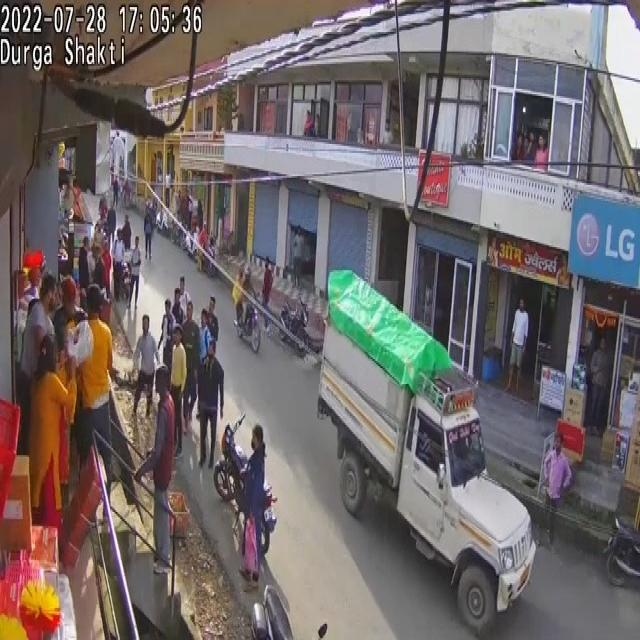fight: (74, 286, 130, 515), (28, 337, 76, 530), (18, 269, 54, 452), (54, 279, 87, 477)
non-fight: (80, 168, 210, 316), (134, 364, 176, 575), (236, 424, 266, 580), (540, 433, 573, 546), (196, 339, 225, 467), (131, 317, 158, 419), (168, 325, 188, 454), (180, 304, 201, 418), (589, 337, 610, 435), (126, 236, 142, 312), (232, 268, 245, 326), (262, 262, 274, 310), (144, 204, 154, 260), (112, 175, 119, 208)
